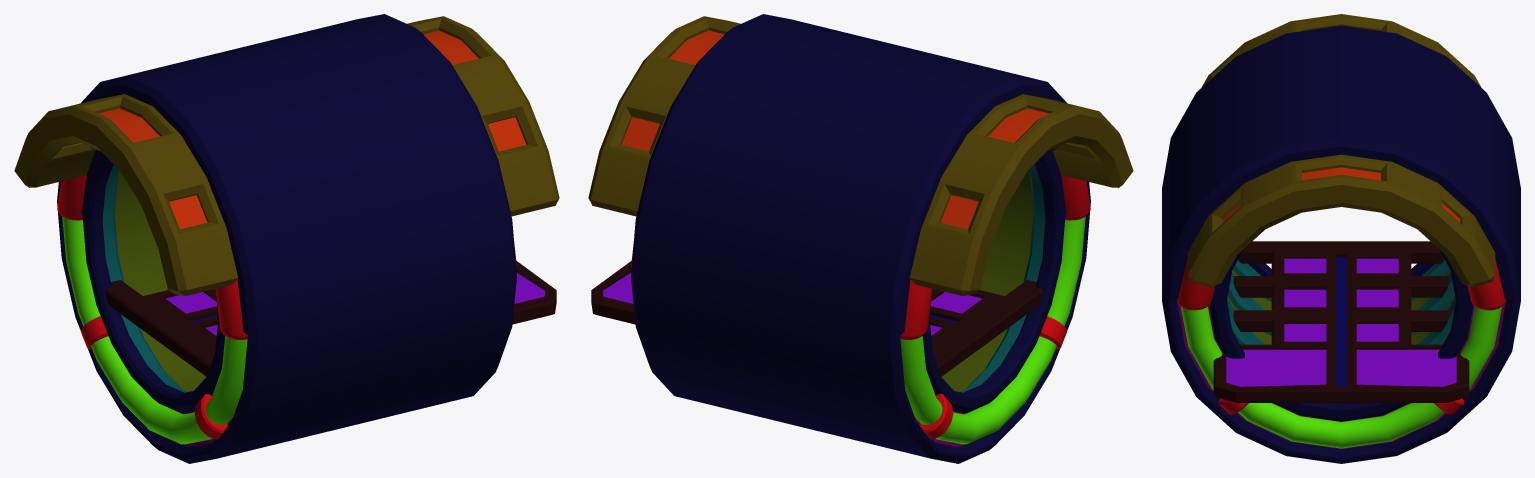
Rendered from OBJ_Porte.fbx.
3 renders of one model, left to right at view 1: azimuth 30°, elevation 25°; view 2: azimuth 150°, elevation 25°; view 3: azimuth 270°, elevation 25°, orthographic. The views are drawn at different scales.
Parts seen in each view (by area): view 1: Porte; view 2: Porte; view 3: Porte.
Boxes of the visible parts, x1,y1,x2,y2 form: Porte: [14, 14, 559, 463]; Porte: [588, 14, 1133, 463]; Porte: [1162, 14, 1520, 463].
Size of the model in its own units: 16.35 by 14 by 14.
